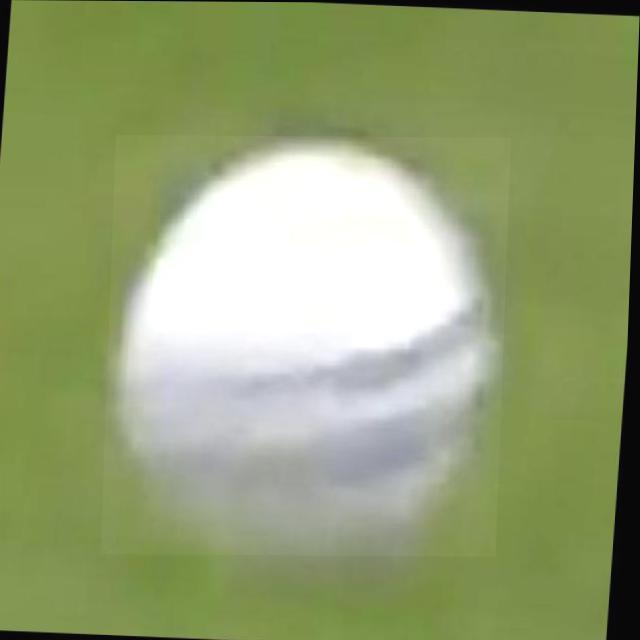-: (105, 135, 512, 556)
